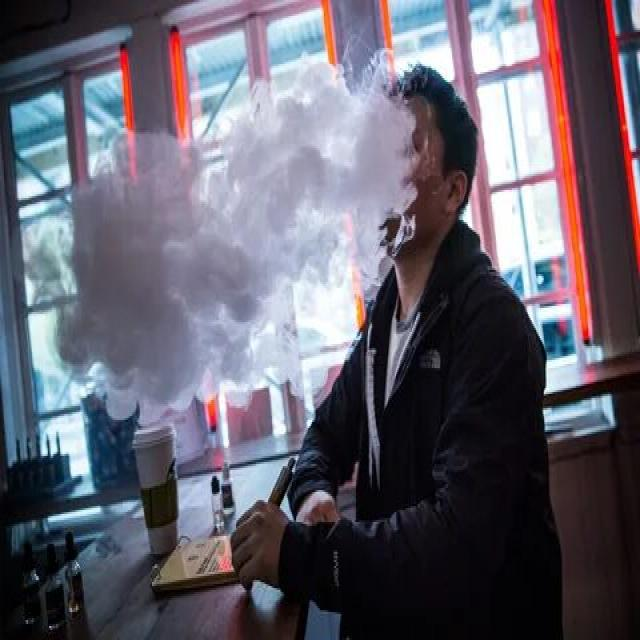smoke: (267, 454, 300, 510)
